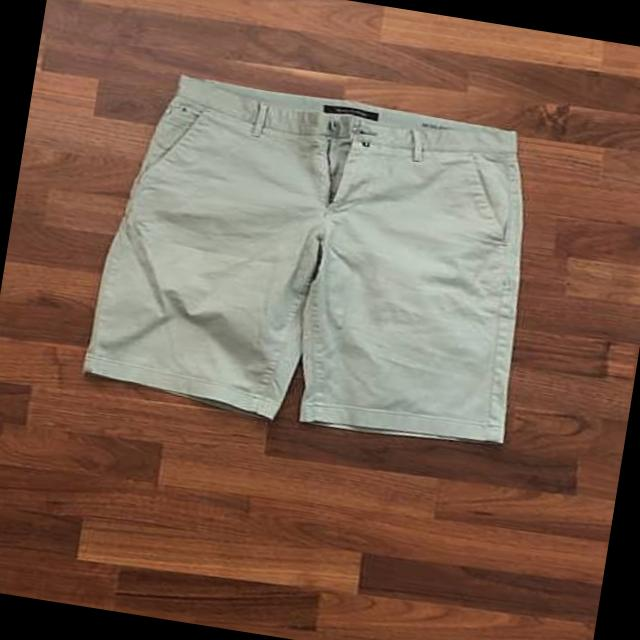SHORT: (58, 52, 577, 466)
